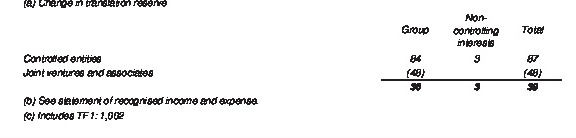table: (0, 0, 576, 138)
